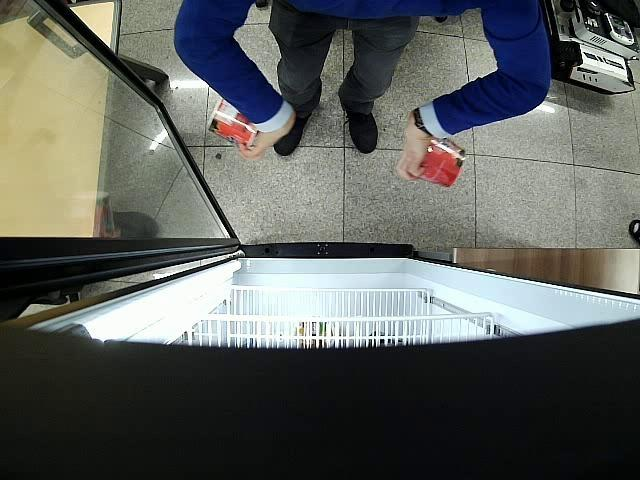01_ShinRamen_L: (206, 96, 258, 148), (418, 138, 466, 188)
